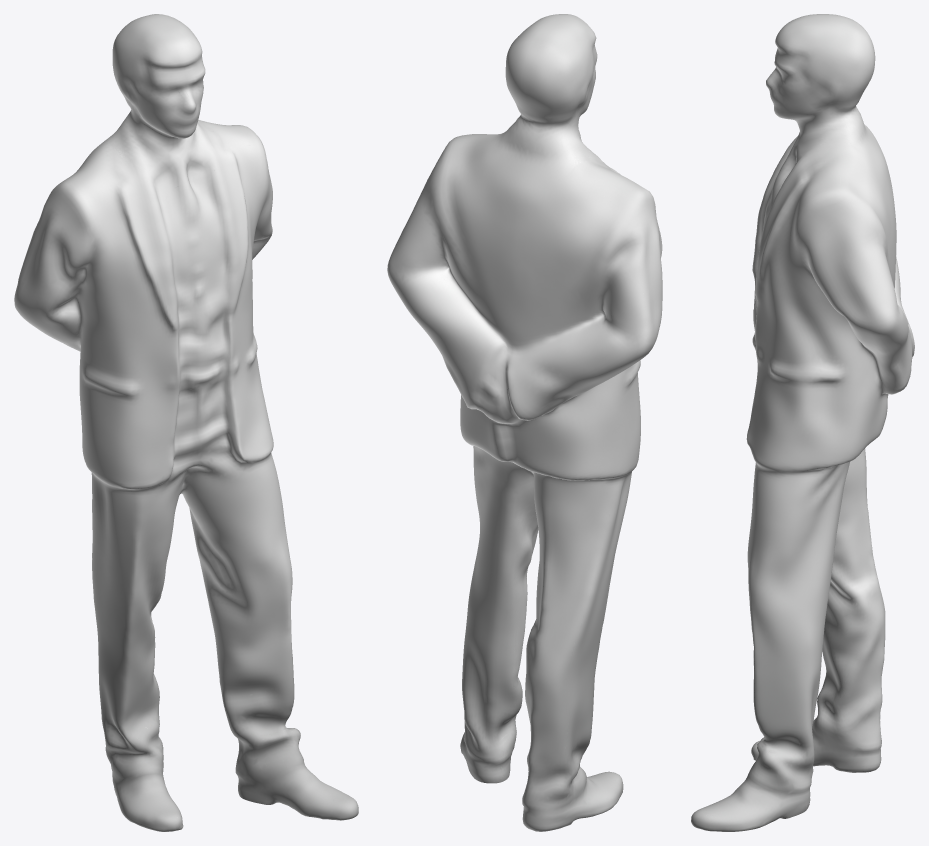
File: chico_formal.glb
3 views of the same model, side by side, from view 1: azimuth 30°, elevation 25°; view 2: azimuth 150°, elevation 25°; view 3: azimuth 270°, elevation 25° (orthographic). The views are drawn at different scales.
Parts seen in each view (by area): view 1: Mesh_0; view 2: Mesh_0; view 3: Mesh_0.
Boxes of the visible parts, x1,y1,x2,y2 form: Mesh_0: (14, 14, 358, 831); Mesh_0: (387, 14, 662, 831); Mesh_0: (691, 14, 914, 831).
Bounding box in the file's own units: 0.6559 × 1.91 × 0.5147.
1 material, 1 textured.
